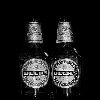beer: (16, 8, 51, 100)
